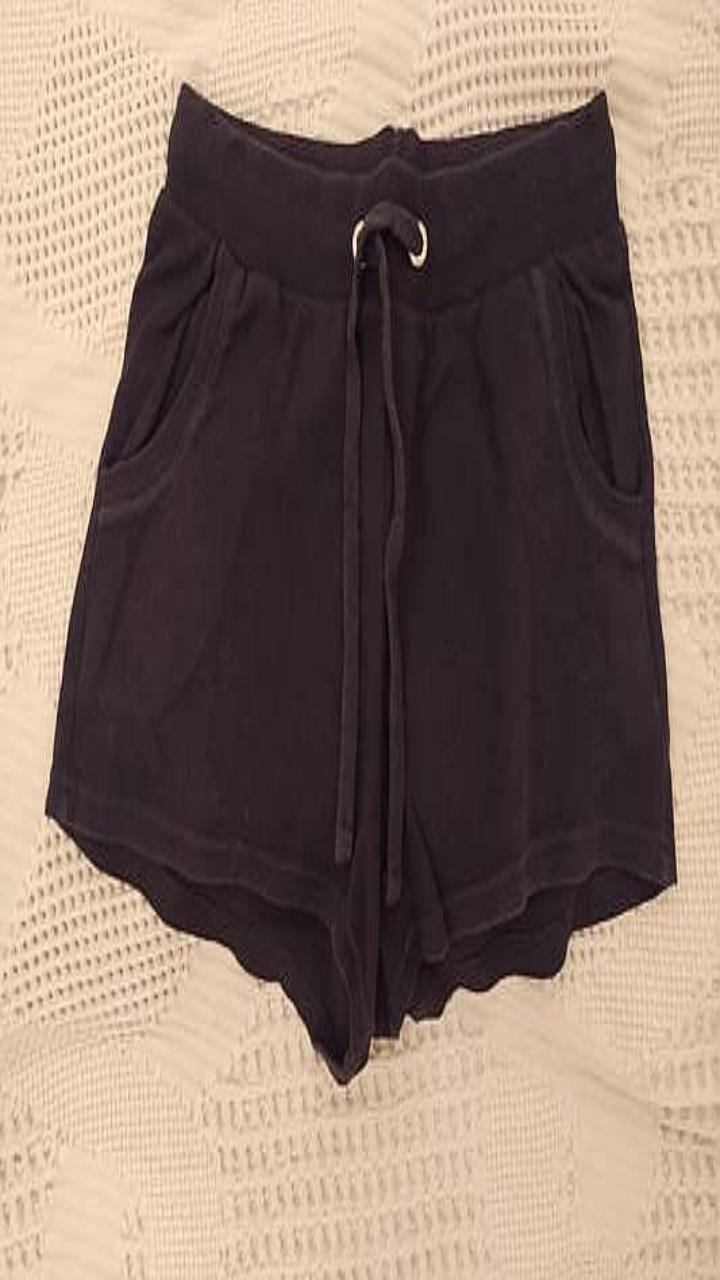Shorts: (45, 82, 675, 1081)
